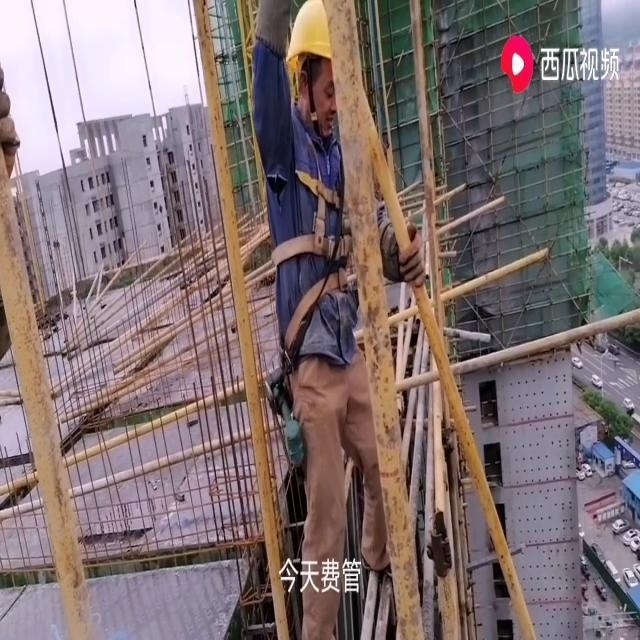Arnes_seguridad: (263, 103, 356, 279)
